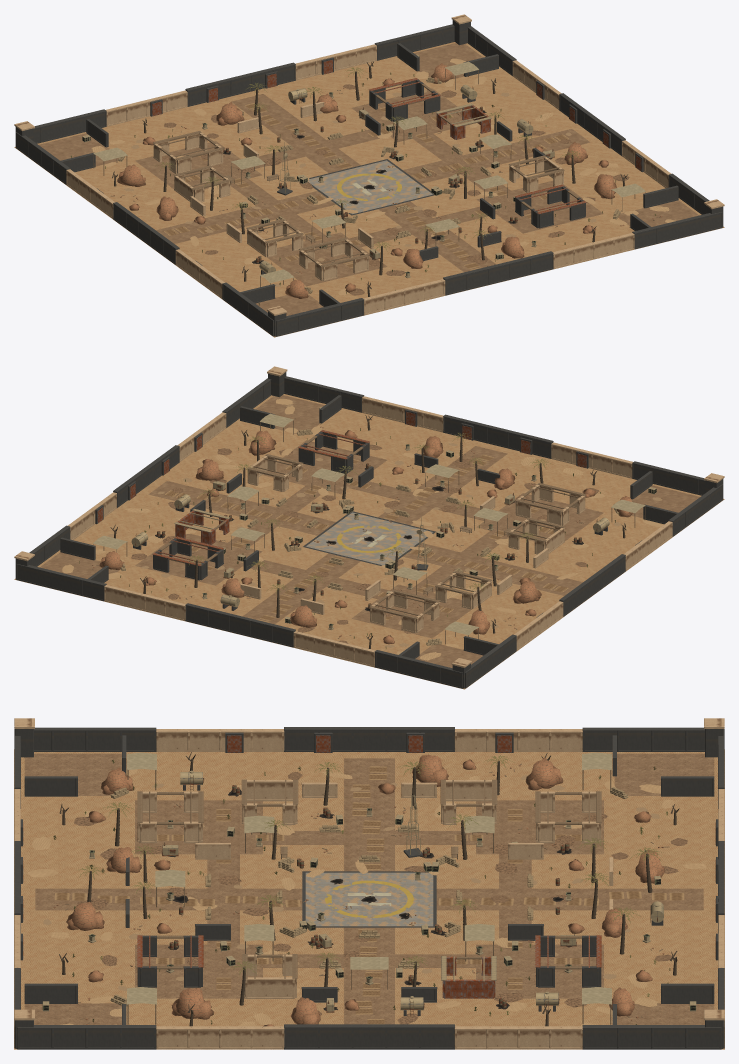
The model's file is Map3_Col_Ileri_Karakolu_5v5v5v5_v3_1.gltf.
The picture shows the model from 3 angles, top to bottom: view 1: azimuth 30°, elevation 25°; view 2: azimuth 150°, elevation 25°; view 3: azimuth 270°, elevation 25°; orthographic projection. The views are drawn at different scales.
Visible parts, largest first — view 1: Terrain_DesertFloor, Wall_Perimeter_Main, Floor_PackedEarth_Roads, Floor_Helipad_Center, Wall_CornerOutposts, Wall_TownCourtyards, Wall_Concrete_NE_Outpost, Wall_Concrete_SE_Command, Wall_Adobe_NW_HouseA, Wall_Adobe_SW_MarketHouse, Wall_Adobe_SW_HouseB, Wall_Adobe_NW_HouseB (+3 smaller); view 2: Terrain_DesertFloor, Wall_Perimeter_Main, Floor_PackedEarth_Roads, Floor_Helipad_Center, Wall_CornerOutposts, Wall_TownCourtyards, Wall_Concrete_SE_Command, Wall_Adobe_SW_MarketHouse, Wall_Concrete_NE_Outpost, Wall_Adobe_NW_HouseA, Wall_Adobe_NW_HouseB, Wall_Adobe_SW_HouseB (+3 smaller); view 3: Terrain_DesertFloor, Floor_PackedEarth_Roads, Wall_Perimeter_Main, Floor_Helipad_Center, Wall_CornerOutposts, Wall_TownCourtyards, Wall_Adobe_SE_Guardhouse, Wall_Concrete_NE_Outpost, Wall_Concrete_SE_Command, Wall_Adobe_SW_MarketHouse, Wall_Adobe_NW_HouseA, Wall_Adobe_SW_HouseB (+11 smaller).
Boxes of the visible parts, bbox=[...] form: Terrain_DesertFloor: bbox=[14, 42, 724, 337]; Wall_Perimeter_Main: bbox=[14, 14, 724, 336]; Floor_PackedEarth_Roads: bbox=[39, 43, 698, 315]; Floor_Helipad_Center: bbox=[308, 159, 434, 215]; Wall_CornerOutposts: bbox=[60, 43, 678, 306]; Wall_TownCourtyards: bbox=[190, 102, 548, 260]; Wall_Concrete_NE_Outpost: bbox=[369, 79, 440, 121]; Wall_Concrete_SE_Command: bbox=[515, 186, 585, 228]; Wall_Adobe_NW_HouseA: bbox=[153, 132, 223, 173]; Wall_Adobe_SW_MarketHouse: bbox=[299, 239, 368, 281]; Wall_Adobe_SW_HouseB: bbox=[247, 220, 303, 257]; Wall_Adobe_NW_HouseB: bbox=[174, 167, 230, 202]; Terrain_DesertFloor: bbox=[14, 394, 724, 689]; Wall_Perimeter_Main: bbox=[14, 366, 724, 688]; Floor_PackedEarth_Roads: bbox=[40, 395, 699, 667]; Floor_Helipad_Center: bbox=[303, 511, 435, 565]; Wall_CornerOutposts: bbox=[60, 395, 678, 658]; Wall_TownCourtyards: bbox=[190, 453, 548, 614]; Wall_Concrete_SE_Command: bbox=[298, 431, 369, 473]; Wall_Adobe_SW_MarketHouse: bbox=[515, 484, 585, 525]; Wall_Concrete_NE_Outpost: bbox=[153, 538, 223, 580]; Wall_Adobe_NW_HouseA: bbox=[370, 591, 439, 633]; Wall_Adobe_NW_HouseB: bbox=[435, 572, 491, 609]; Wall_Adobe_SW_HouseB: bbox=[508, 519, 564, 554]; Terrain_DesertFloor: bbox=[14, 749, 724, 1049]; Floor_PackedEarth_Roads: bbox=[24, 753, 714, 1024]; Wall_Perimeter_Main: bbox=[14, 718, 724, 1049]; Floor_Helipad_Center: bbox=[302, 871, 436, 927]; Wall_CornerOutposts: bbox=[24, 735, 714, 1024]; Wall_TownCourtyards: bbox=[125, 782, 613, 1002]; Wall_Adobe_SE_Guardhouse: bbox=[244, 954, 296, 998]; Wall_Concrete_NE_Outpost: bbox=[536, 935, 601, 987]; Wall_Concrete_SE_Command: bbox=[137, 935, 202, 987]; Wall_Adobe_SW_MarketHouse: bbox=[137, 791, 202, 843]; Wall_Adobe_NW_HouseA: bbox=[536, 791, 601, 843]; Wall_Adobe_SW_HouseB: bbox=[242, 780, 297, 824].
Bounding box in the file's own units: 100 × 10.83 × 100.
21 materials, 21 textured.
